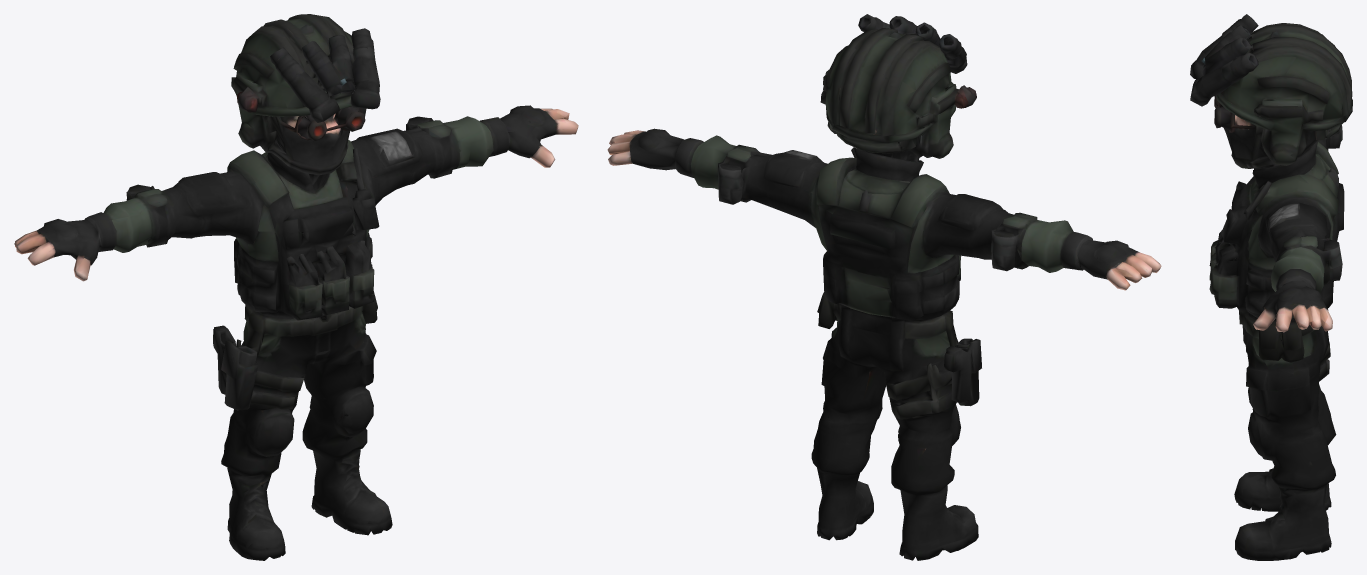
File: OzelHarekat.fbx
The picture shows the model from 3 angles, left to right: view 1: azimuth 30°, elevation 25°; view 2: azimuth 150°, elevation 25°; view 3: azimuth 270°, elevation 25°; orthographic projection. The views are drawn at different scales.
Parts seen in each view (by area): view 1: OzelHarekat; view 2: OzelHarekat; view 3: OzelHarekat.
Part boxes in pixels (x1,y1,x2,y2): OzelHarekat: [14, 14, 578, 560]; OzelHarekat: [607, 14, 1161, 560]; OzelHarekat: [1190, 14, 1352, 560].
Size of the model in its own units: 2.04 by 1.8 by 0.5363.
Materials: 1 (1 with a texture image).
